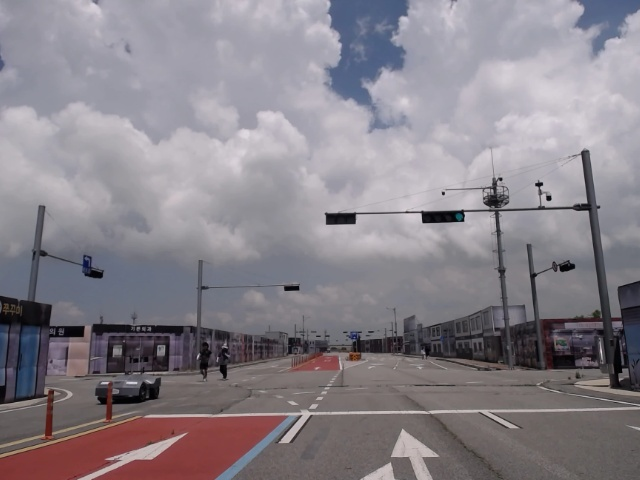straight_green_4: (422, 212, 466, 224)
